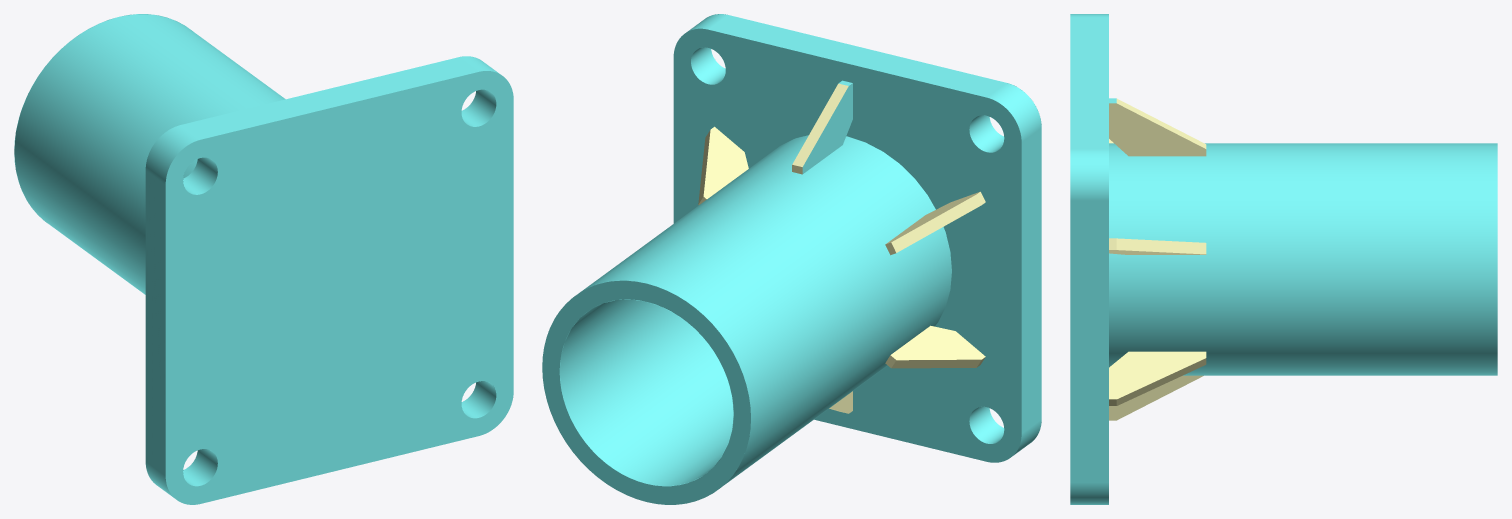
The picture shows the model from 3 angles, left to right: view 1: azimuth 30°, elevation 25°; view 2: azimuth 150°, elevation 25°; view 3: azimuth 270°, elevation 25°; orthographic projection. The views are drawn at different scales.
Visible parts, largest first — view 1: Part30.IGS (×10); view 2: Part30.IGS (×18); view 3: Part30.IGS (×12).
Part boxes in pixels (x1=…): Part30.IGS (×10): x1=14, y1=14, x2=513, y2=504; Part30.IGS (×18): x1=542, y1=15, x2=1041, y2=504; Part30.IGS (×12): x1=1070, y1=17, x2=1497, y2=504.
Size of the model in its own units: 0.1 by 0.1 by 0.11.
